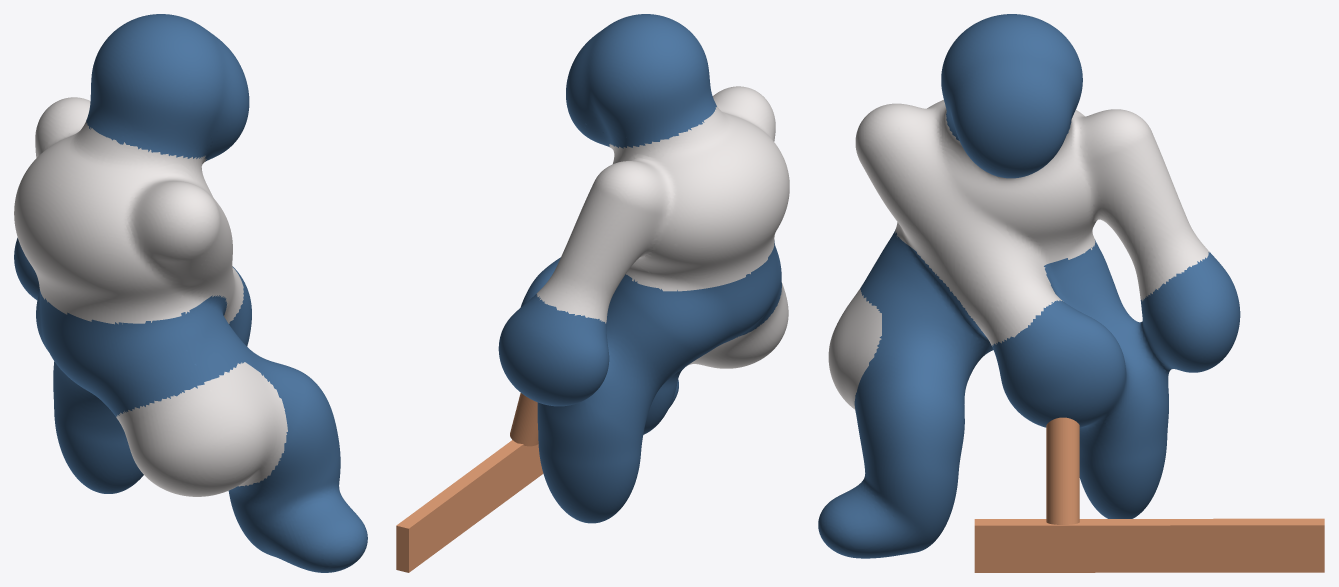
The model's file is goalie_W-G.glb.
The picture shows the model from 3 angles, left to right: view 1: azimuth 30°, elevation 25°; view 2: azimuth 150°, elevation 25°; view 3: azimuth 270°, elevation 25°; orthographic projection. The views are drawn at different scales.
Parts seen in each view (by area): view 1: Goalie.W-G; view 2: Goalie.W-G; view 3: Goalie.W-G.
Part boxes in pixels (x1,y1,x2,y2): Goalie.W-G: (14,14,367,572); Goalie.W-G: (396,14,789,572); Goalie.W-G: (818,14,1324,572).
Bounding box in the file's own units: 0.0275 × 0.0528 × 0.0486.
